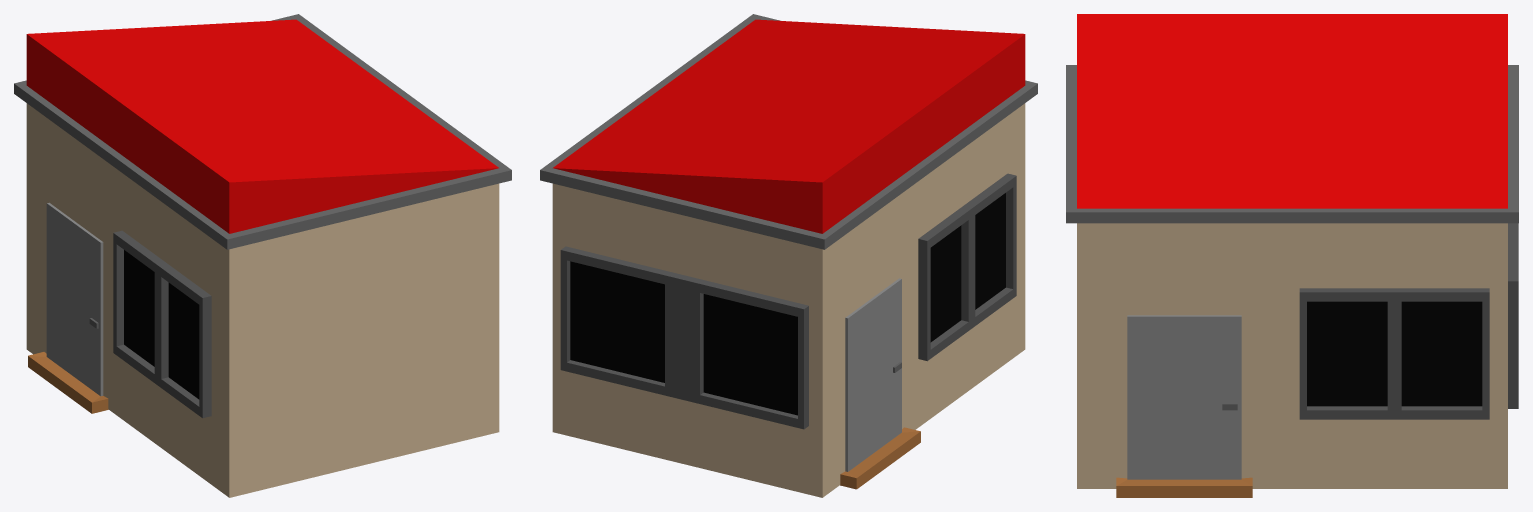
File: GuardHouse.fbx
The picture shows the model from 3 angles, left to right: view 1: azimuth 30°, elevation 25°; view 2: azimuth 150°, elevation 25°; view 3: azimuth 270°, elevation 25°; orthographic projection. The views are drawn at different scales.
Parts seen in each view (by area): view 1: Cube; view 2: Cube; view 3: Cube.
Boxes of the visible parts, <box> form: Cube: <box>14,14,511,497</box>; Cube: <box>540,14,1037,497</box>; Cube: <box>1066,14,1518,497</box>.
Size of the model in its own units: 280 by 279 by 342.
